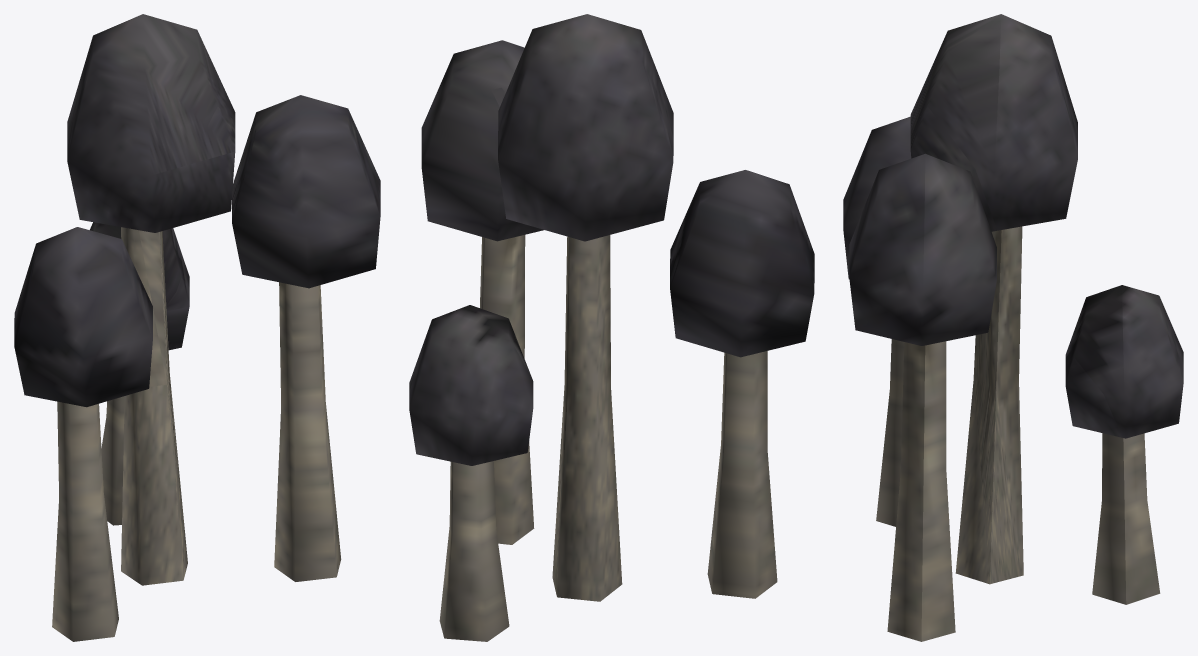
File: shroom_inkcap_cluster.glb
3 views of the same model, side by side, from view 1: azimuth 30°, elevation 25°; view 2: azimuth 150°, elevation 25°; view 3: azimuth 270°, elevation 25° (orthographic). The views are drawn at different scales.
Visible parts, largest first — view 1: shroom_inkcap_cluster; view 2: shroom_inkcap_cluster; view 3: shroom_inkcap_cluster.
Boxes of the visible parts, x1,y1,x2,y2 form: shroom_inkcap_cluster: [14, 14, 380, 641]; shroom_inkcap_cluster: [409, 14, 814, 641]; shroom_inkcap_cluster: [843, 14, 1183, 641].
Bounding box in the file's own units: 0.2697 × 0.3861 × 0.2152.
Materials: 1 (1 with a texture image).
